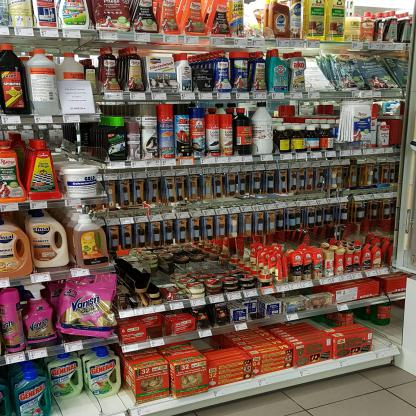Void: (378, 308, 394, 350), (194, 339, 224, 349)
